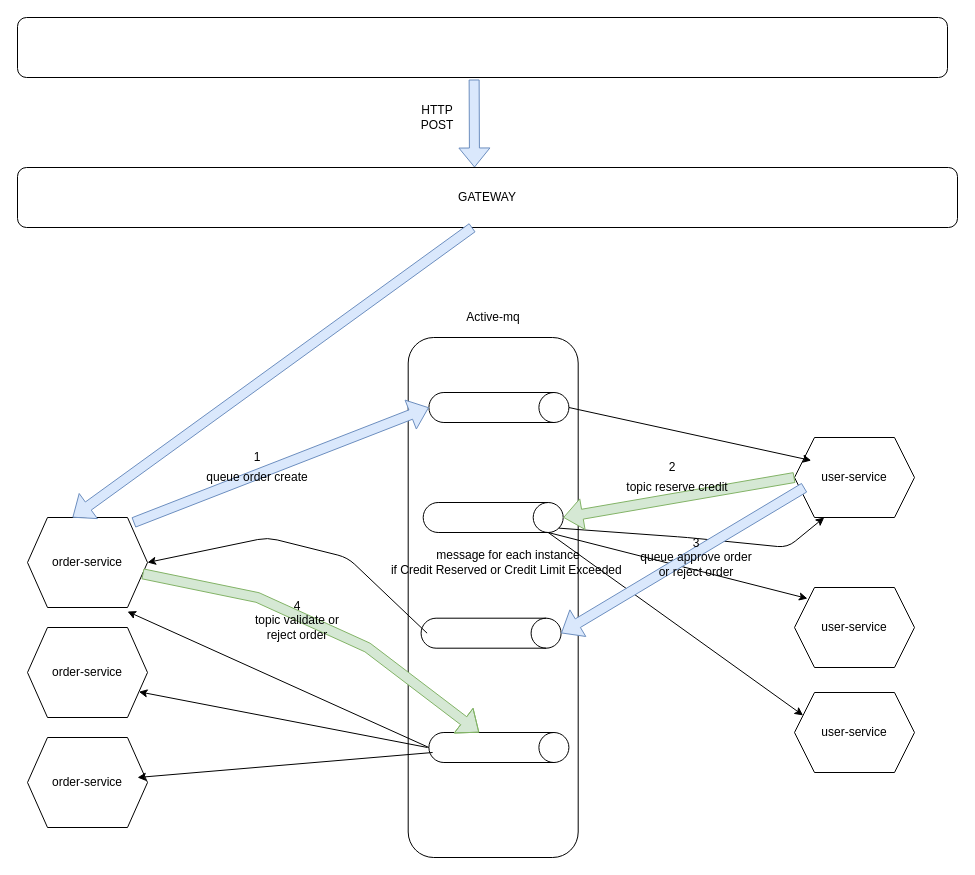
Some shapes in this 975 by 875 pixel diagram are drawn without their labels. Here are the shapes that lost their labels. From the top down, the centre of each, then its label:
At (482,47): "front-ent".
At (498,407): "message for 1 instance for pending order".
At (490,632): "message for 1 instance if Credit Reserved or Credit Limit Exceeded".
At (498,747): "message for each instance if validate or reject order".
